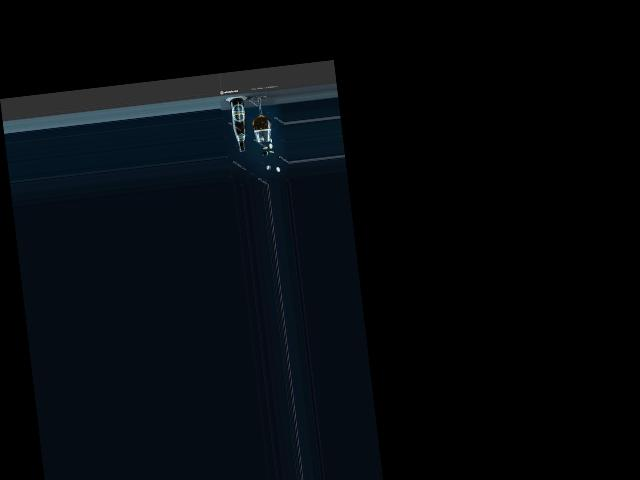beer: (230, 98, 249, 151)
